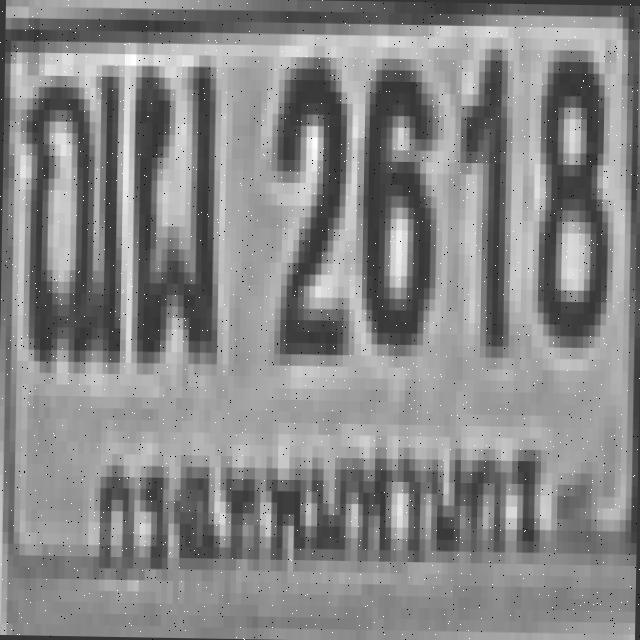1: (451, 37, 508, 346)
2: (270, 51, 344, 349)
21ChorChoe: (17, 63, 118, 362)
37PhorPhueng: (125, 54, 216, 352)
6: (354, 53, 433, 340)
8: (531, 38, 605, 336)
Bangkok: (87, 416, 556, 582)
